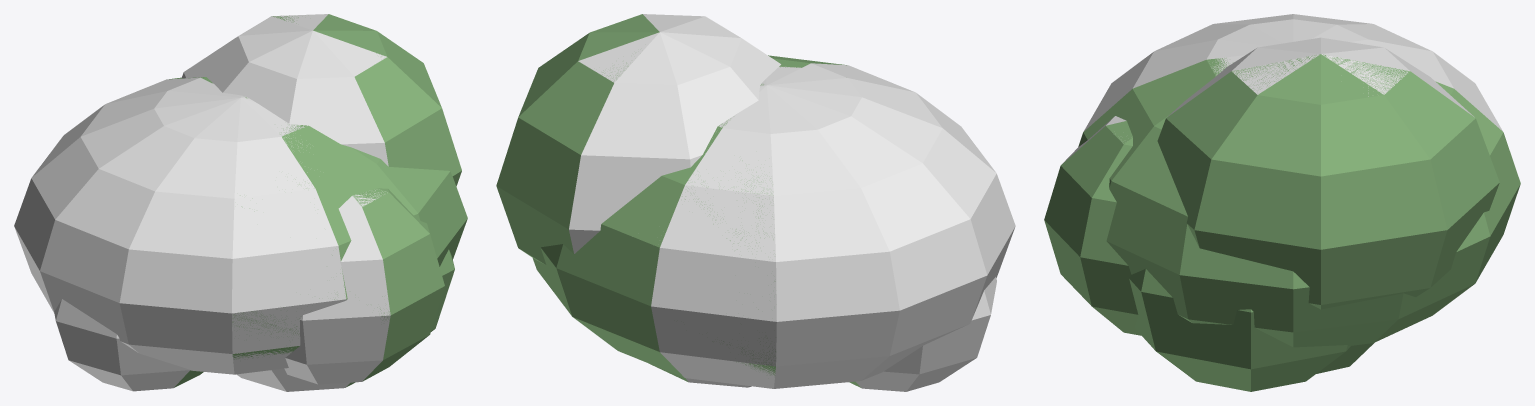
The model's file is bush_01.glb.
3 renders of one model, left to right at view 1: azimuth 30°, elevation 25°; view 2: azimuth 150°, elevation 25°; view 3: azimuth 270°, elevation 25°, orthographic. The views are drawn at different scales.
Visible parts, largest first — view 1: Bush_Complete; view 2: Bush_Complete; view 3: Bush_Complete.
Boxes of the visible parts, x1,y1,x2,y2 form: Bush_Complete: (14,14,467,391); Bush_Complete: (496,14,1015,391); Bush_Complete: (1044,14,1520,391).
Size of the model in its own units: 1.36 by 0.988 by 1.26.
